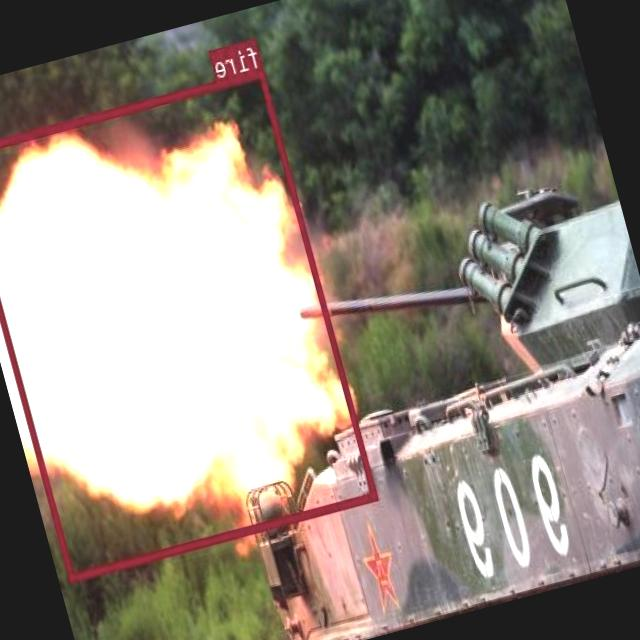fire: (0, 66, 379, 580)
